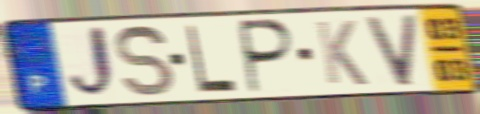J: (65, 23, 119, 103)
K: (313, 18, 371, 88)
L: (184, 23, 239, 95)
P: (239, 17, 298, 96)
S: (113, 23, 177, 100)
V: (363, 11, 419, 89)
